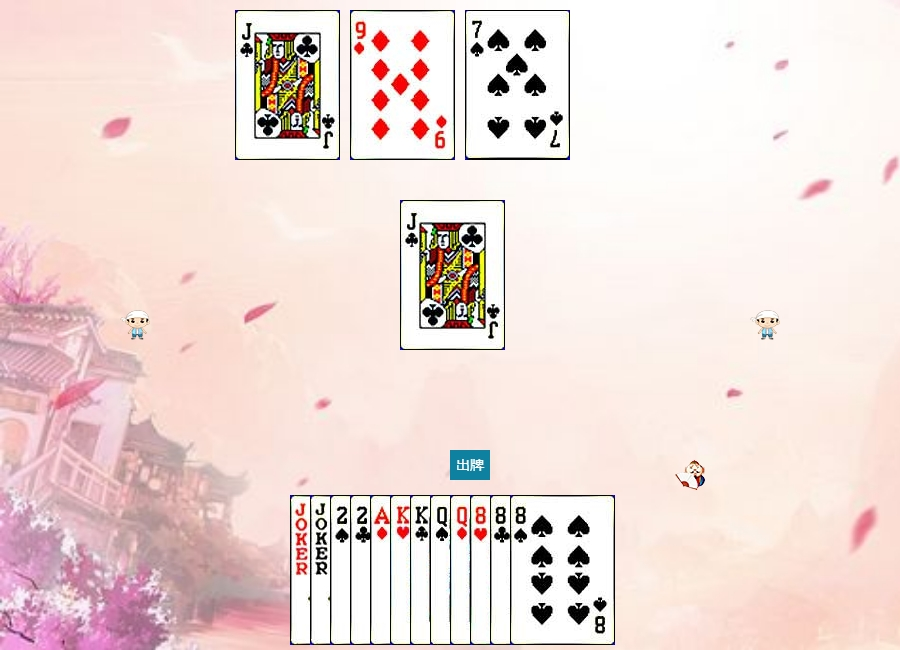11~2: (235, 10, 340, 160), (400, 200, 505, 350)
12~1: (450, 495, 555, 645)
12~4: (430, 495, 535, 645)
13~2: (410, 495, 515, 645)
13~3: (390, 495, 495, 645)
14~1: (370, 495, 475, 645)
15~2: (350, 495, 455, 645)
15~4: (330, 495, 435, 645)
17~3: (310, 495, 415, 645)
18~4: (290, 495, 395, 645)
7~4: (465, 10, 570, 160)
8~2: (490, 495, 595, 645)
8~3: (470, 495, 575, 645)
8~4: (510, 495, 615, 645)
9~1: (350, 10, 455, 160)
